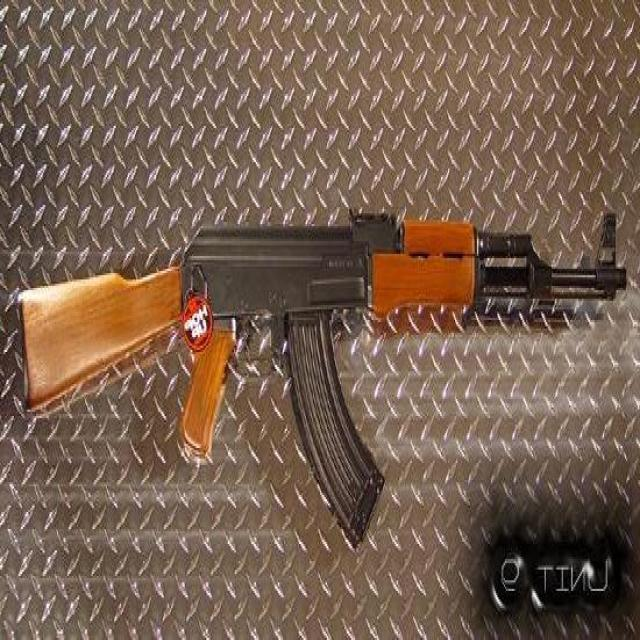Gun: (42, 199, 629, 488)
